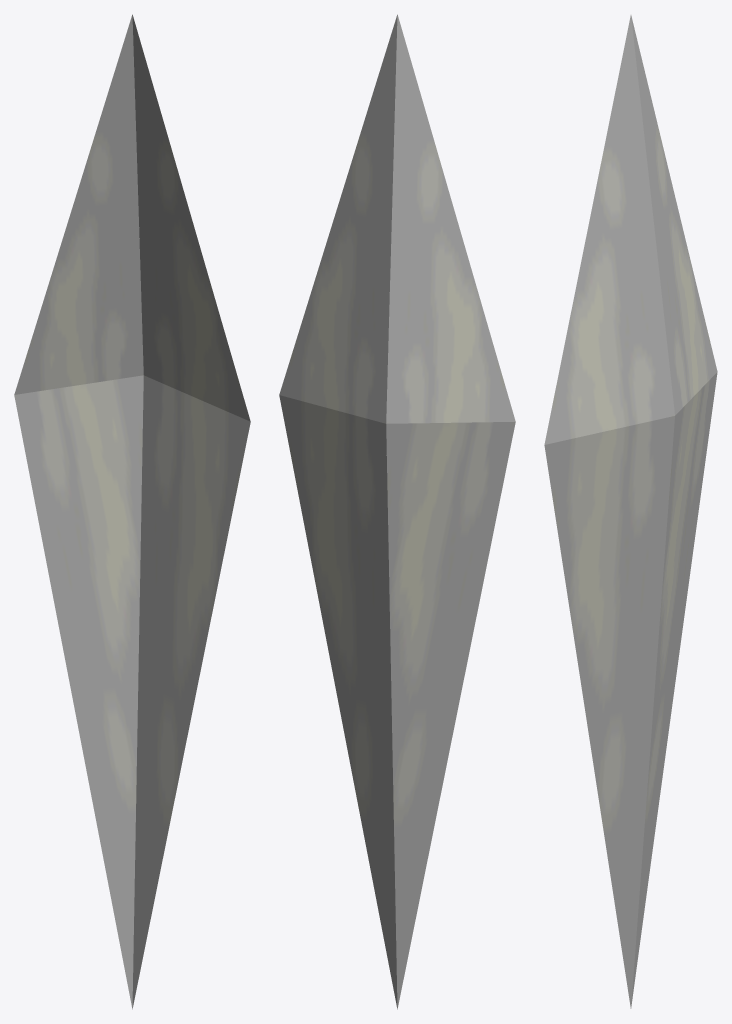
Rendered from Eckverschluß [GrauerStein]_2377.glb.
3 renders of one model, left to right at view 1: azimuth 30°, elevation 25°; view 2: azimuth 210°, elevation 25°; view 3: azimuth 270°, elevation 25°, orthographic.
Parts seen in each view (by area): view 1: pPlaneShape11, pPlaneShape10, pPlaneShape8, pPlaneShape9; view 2: pPlaneShape11, pPlaneShape10, pPlaneShape8, pPlaneShape9; view 3: pPlaneShape10, pPlaneShape9, pPlaneShape11, pPlaneShape8.
Boxes of the visible parts, x1,y1,x2,y2 form: pPlaneShape11: (14, 375, 143, 1009); pPlaneShape10: (132, 375, 250, 1007); pPlaneShape8: (14, 14, 143, 394); pPlaneShape9: (132, 15, 250, 421); pPlaneShape11: (386, 421, 515, 1009); pPlaneShape10: (279, 395, 397, 1007); pPlaneShape8: (386, 14, 515, 423); pPlaneShape9: (279, 15, 397, 423); pPlaneShape10: (544, 416, 674, 1008); pPlaneShape9: (544, 15, 674, 444); pPlaneShape11: (631, 372, 717, 1008); pPlaneShape8: (631, 15, 717, 415).
Size of the model in its own units: 0.0549 by 0.3486 by 0.0549.
4 materials, 4 textured.
